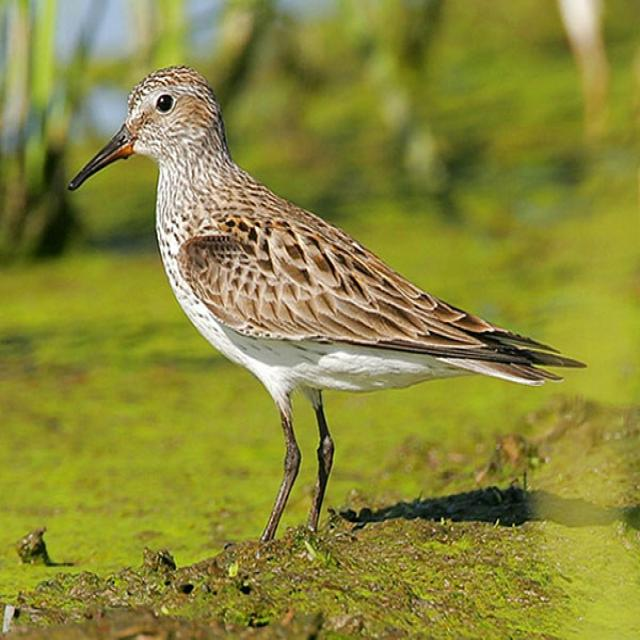Sandpiper: (66, 55, 547, 538)
